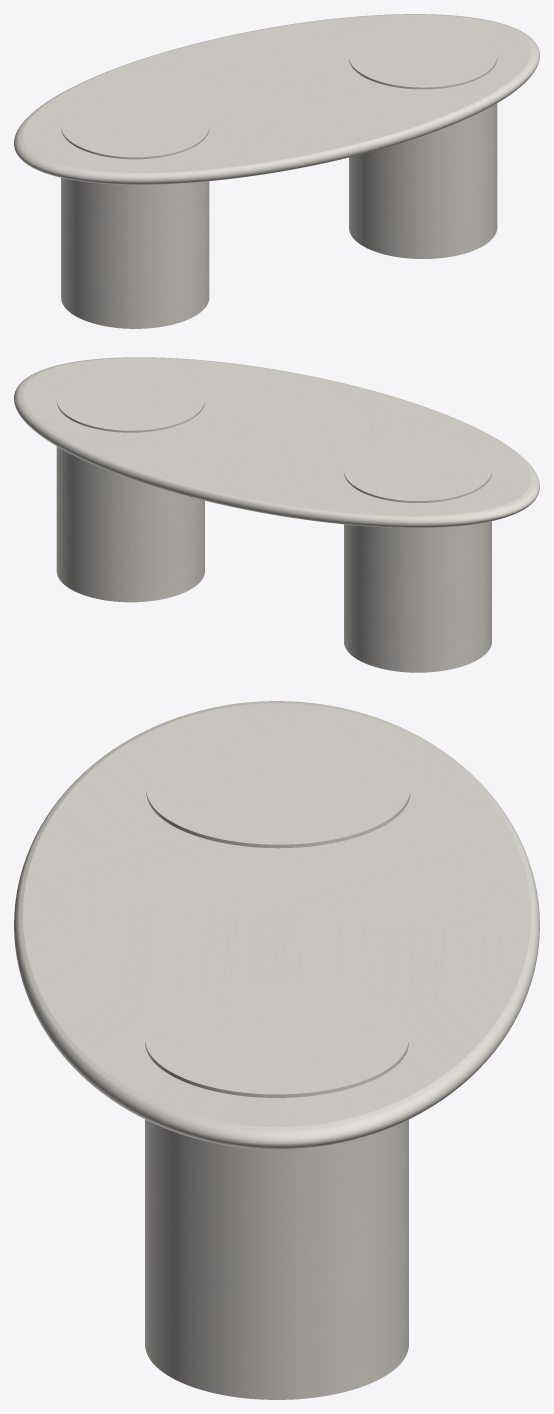
Rendered from pearlwhite_ellips_round_stream.glb.
The picture shows the model from 3 angles, top to bottom: view 1: azimuth 30°, elevation 25°; view 2: azimuth 150°, elevation 25°; view 3: azimuth 270°, elevation 25°; orthographic projection. The views are drawn at different scales.
Parts seen in each view (by area): view 1: tableleg_stream.002, tabletop_ellips_round.001; view 2: tableleg_stream.002, tabletop_ellips_round.001; view 3: tabletop_ellips_round.001, tableleg_stream.002.
Boxes of the visible parts, box(x1,y1,x2,y2) form: tableleg_stream.002: box(61, 25, 497, 328); tabletop_ellips_round.001: box(14, 14, 539, 184); tableleg_stream.002: box(56, 368, 491, 672); tabletop_ellips_round.001: box(14, 357, 539, 527); tabletop_ellips_round.001: box(14, 701, 539, 1149); tableleg_stream.002: box(145, 733, 410, 1399).
Size of the model in its own units: 7.5 by 2.44 by 3.8.
2 materials, 2 textured.
